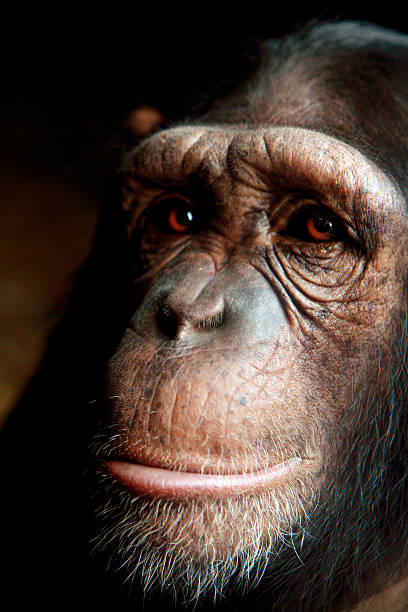chimpanzee: (4, 4, 406, 612)
